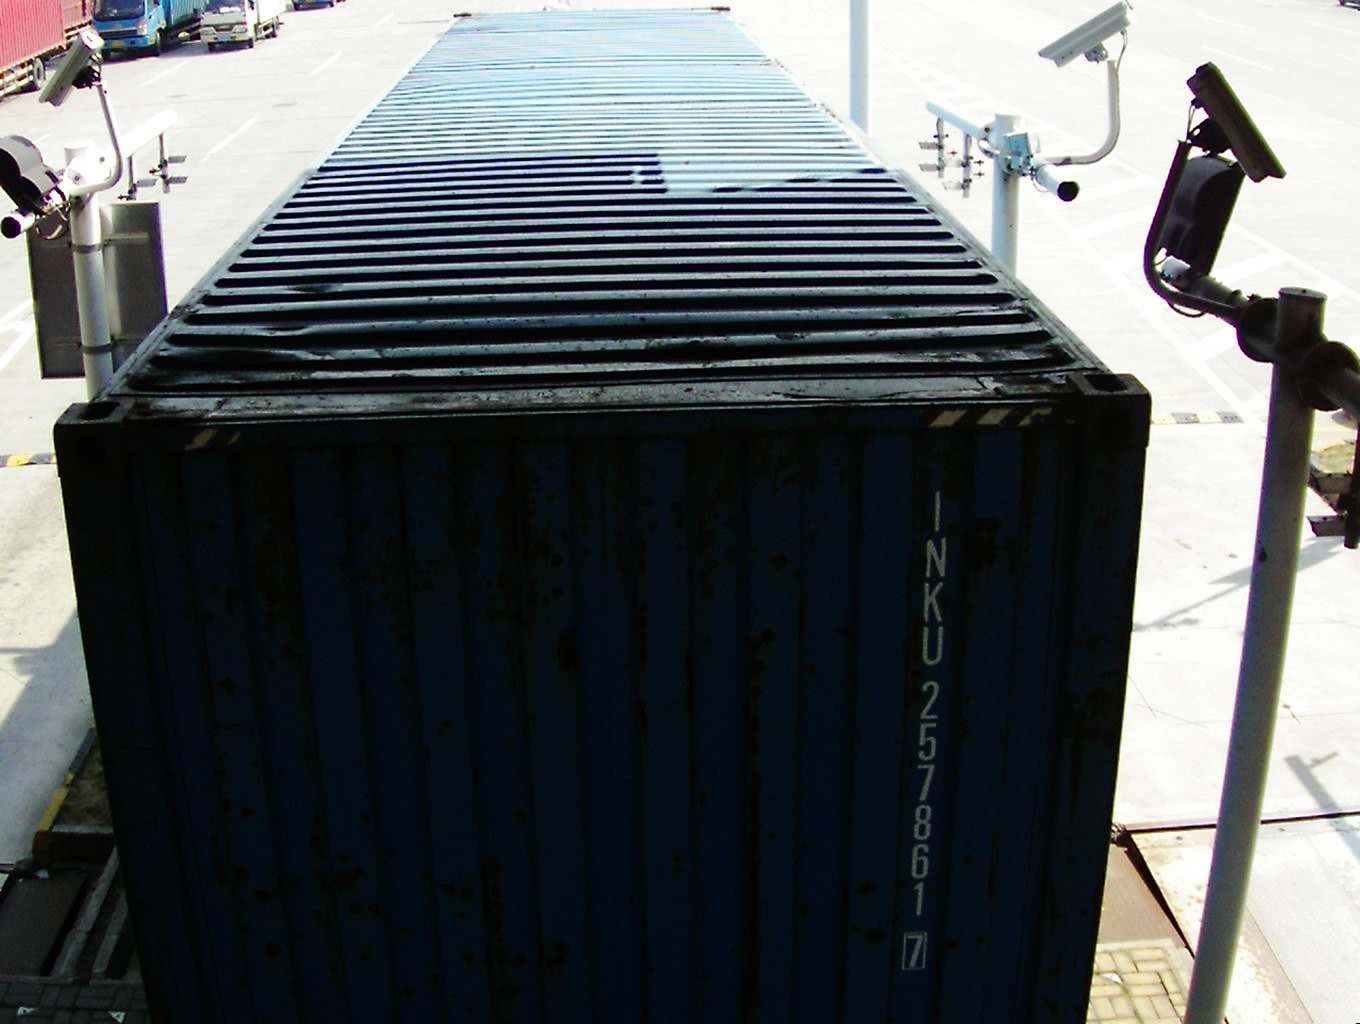words: (903, 471, 951, 979)
